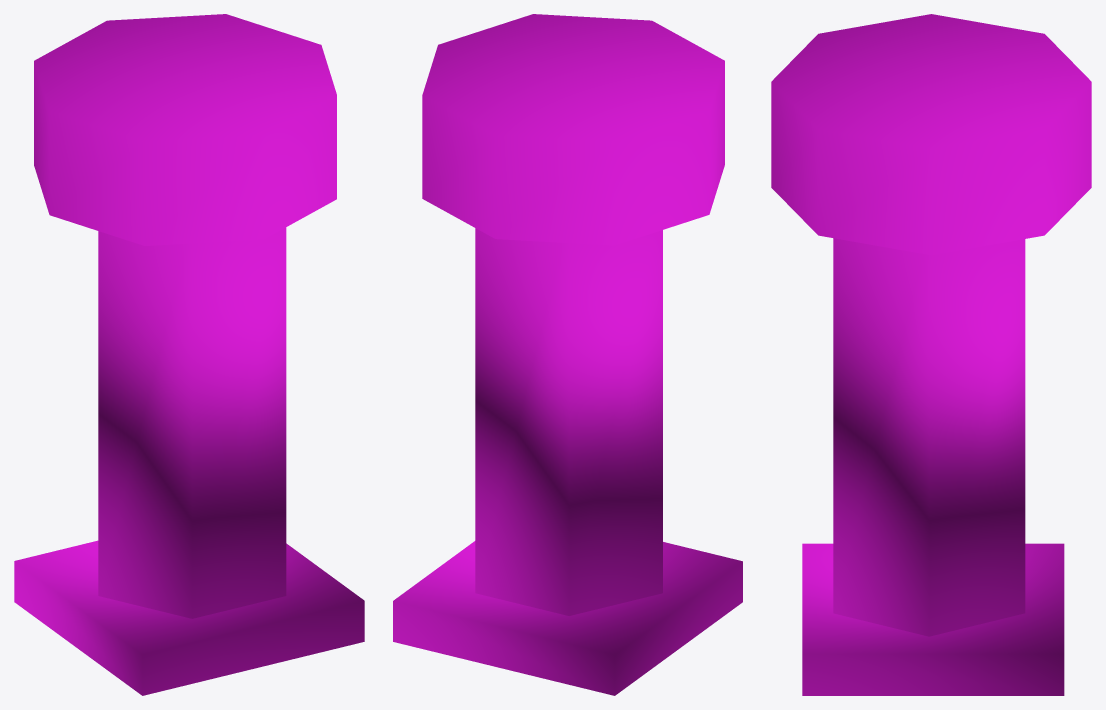
File: ps2_jrpg_crystal_shrine_gateway.obj
3 views of the same model, side by side, from view 1: azimuth 30°, elevation 25°; view 2: azimuth 150°, elevation 25°; view 3: azimuth 270°, elevation 25° (orthographic). The views are drawn at different scales.
Size of the model in its own units: 1.04 by 1.99 by 1.04.
